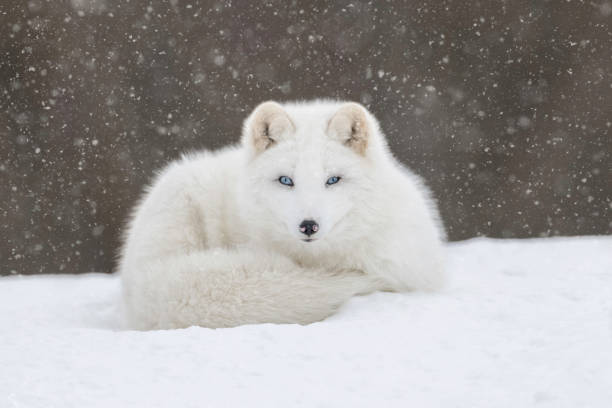arcticfox: (253, 127, 355, 254)
